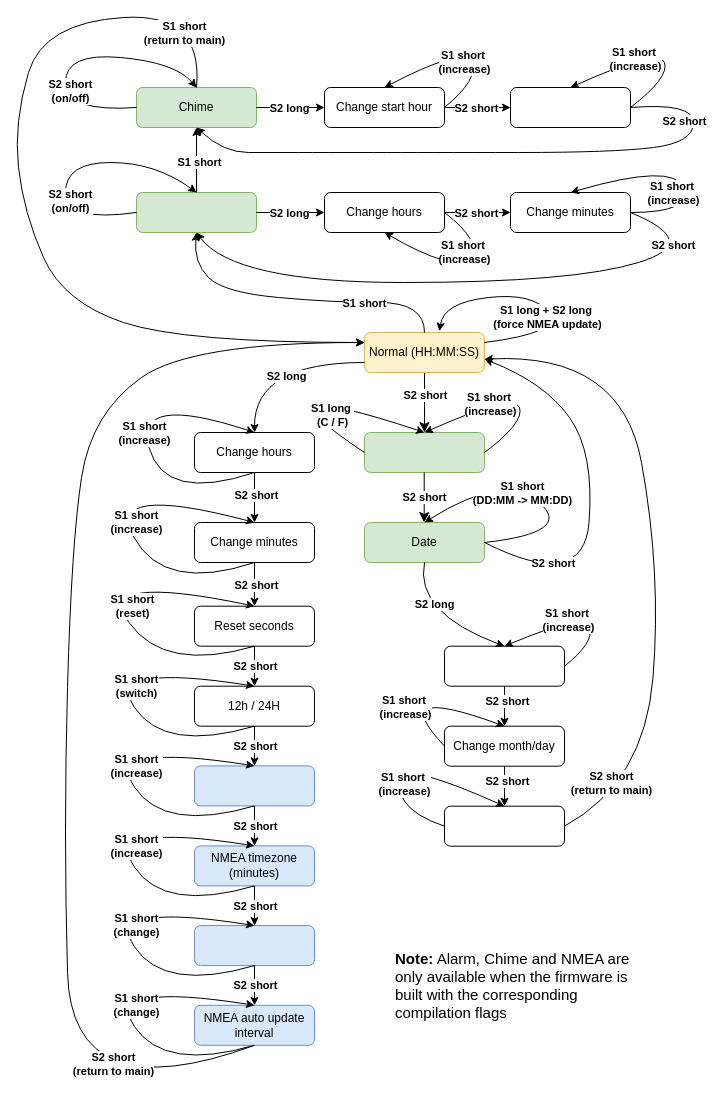
Image size: 724x1095. Some labels were removed from this diagram. Here are the shapes that lost their labels. From the top down, the centre of each, then its label:
At point (570, 107): "Change end hour".
At point (196, 212): "Alarm".
At point (424, 452): "Temperature".
At point (504, 665): "Change day/month".
At point (254, 785): "NMEA timezone (hours)".
At point (504, 825): "Change year".
At point (254, 945): "NMEA DST - Daylight Saving Time".
